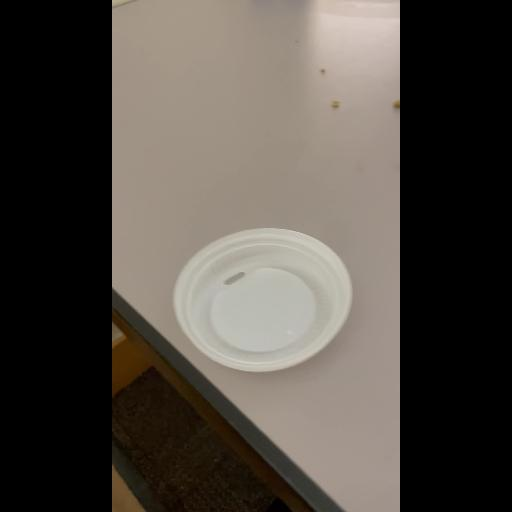lp_cup_lids: (154, 218, 358, 384)
